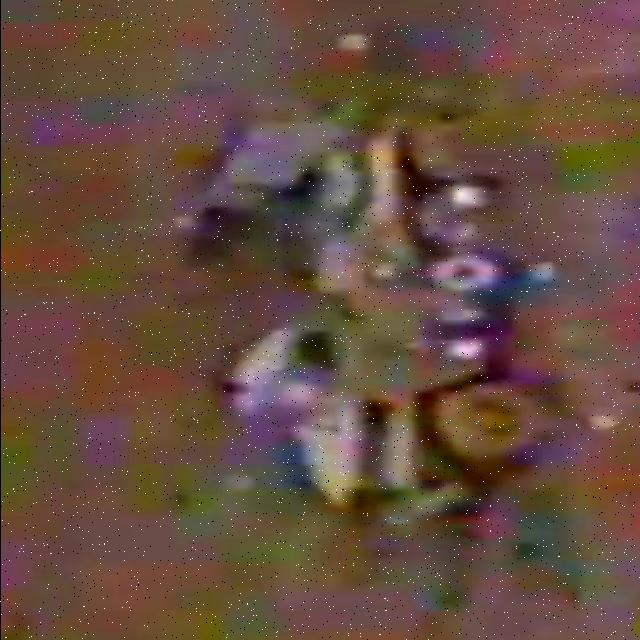MLRS: (165, 119, 556, 525)
